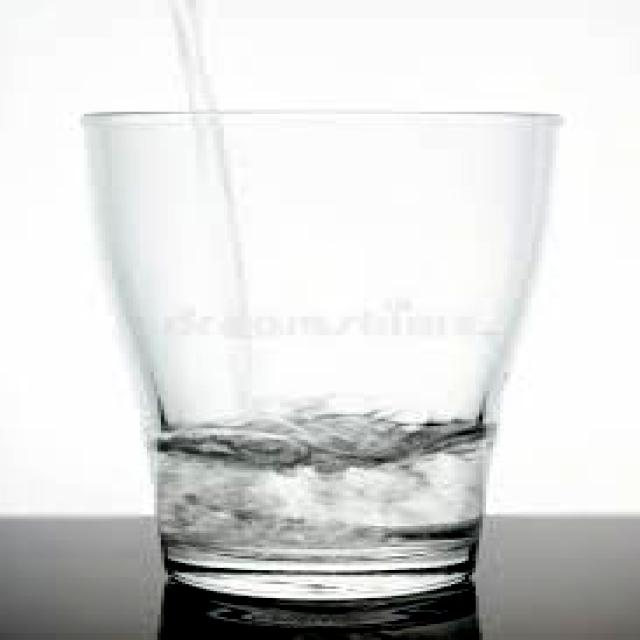Glass: (62, 107, 568, 609)
